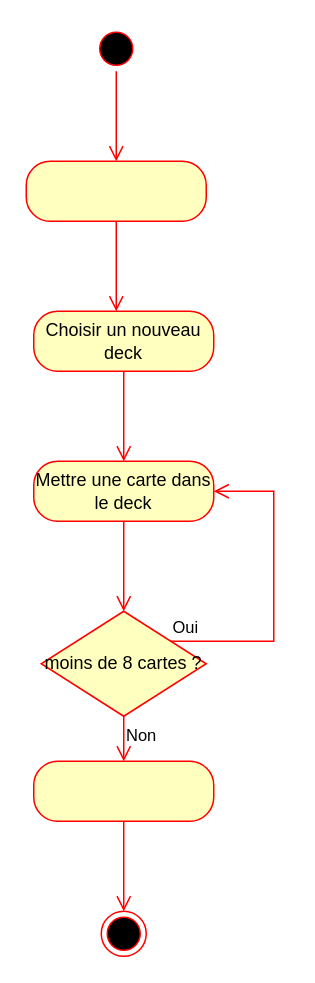
Some shapes in this 315 by 983 pixel diagram are drawn without their labels. The centre of each missing label's shape, as x and y in pixels:
Aller à la création de deck: the point at 115,190
Valider Deck: the point at 123,790
